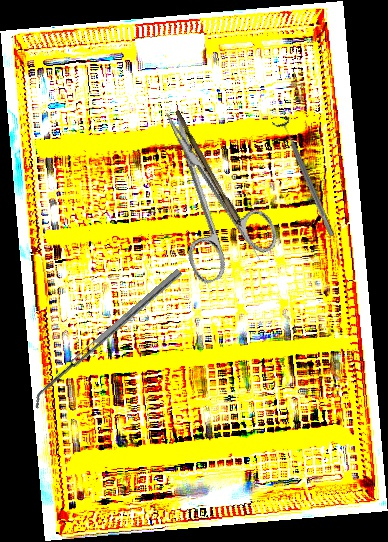Fixation Ring: (271, 115, 341, 240)
Iris Scissors: (132, 92, 285, 287)
Spatula Surgical: (27, 268, 188, 410)
Surgical Spoon: (171, 110, 266, 264)
